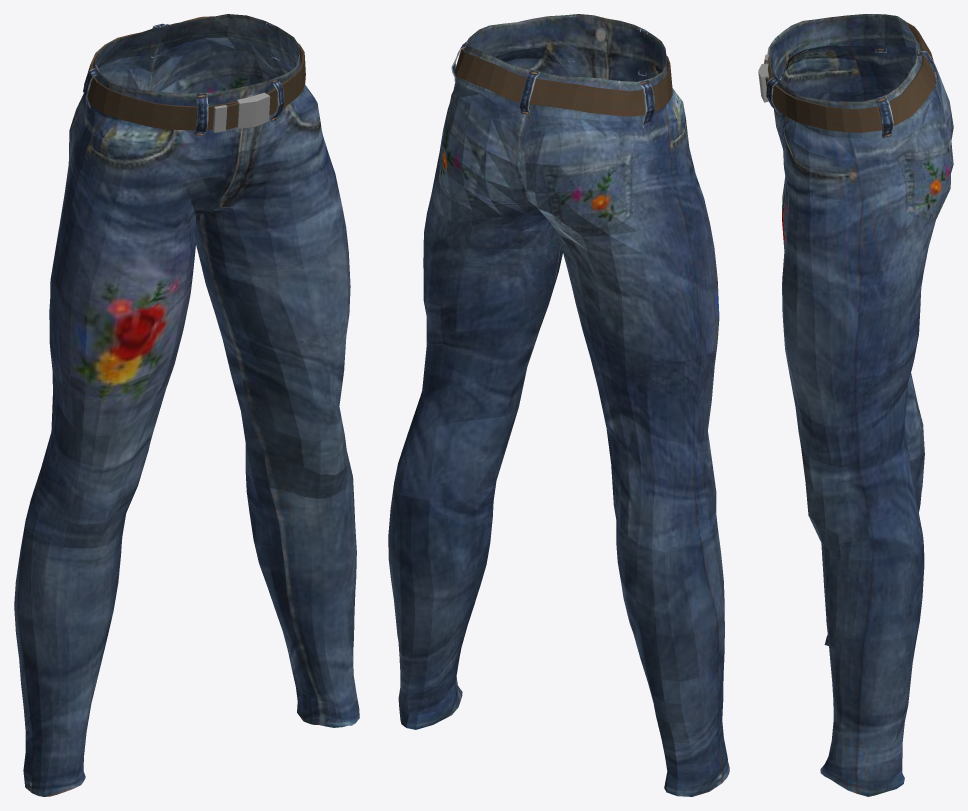
The model's file is mhw_mindfront_female_trousers_1.glb.
3 views of the same model, side by side, from view 1: azimuth 30°, elevation 25°; view 2: azimuth 150°, elevation 25°; view 3: azimuth 270°, elevation 25° (orthographic). The views are drawn at different scales.
Parts seen in each view (by area): view 1: mhw_mindfront_female_trousers_1; view 2: mhw_mindfront_female_trousers_1; view 3: mhw_mindfront_female_trousers_1.
Part boxes in pixels (<box>): mhw_mindfront_female_trousers_1: <box>14,14,359,796</box>; mhw_mindfront_female_trousers_1: <box>388,14,729,796</box>; mhw_mindfront_female_trousers_1: <box>758,14,953,796</box>.
Bounding box in the file's own units: 0.5096 × 1.05 × 0.2766.
Materials: 1 (1 with a texture image).
